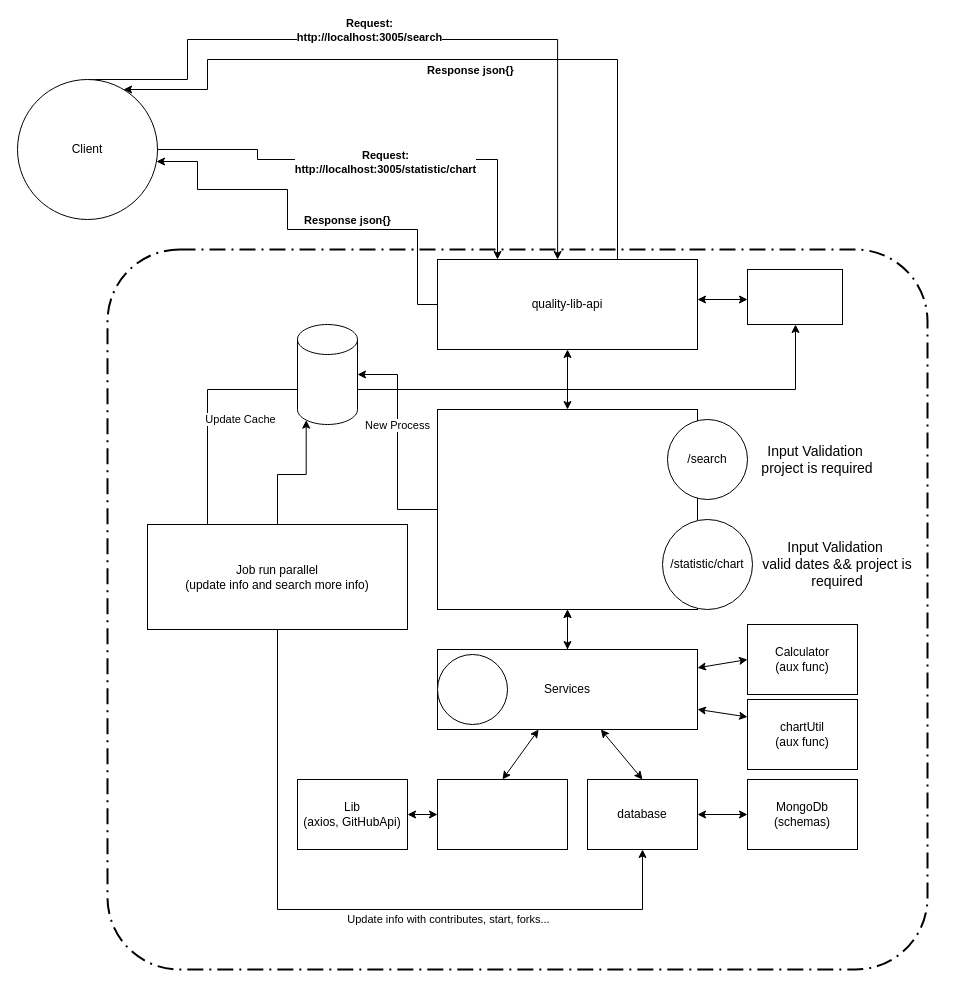
Image size: 955x988. Some labels were removed from this diagram. The box of each missing label's shape, as (x1, y1, x2, y2) in pixels:
AppError Exceptions: (436, 654, 508, 724)
Cache (v2): (746, 268, 842, 324)
Controllers: (436, 408, 698, 610)
gateway (external api): (436, 778, 568, 850)
Redis (v2): (296, 324, 358, 424)
